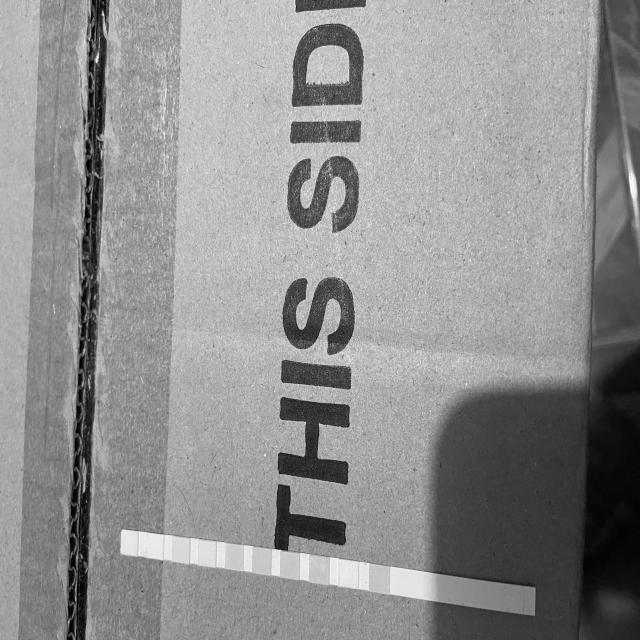Bilirubin: (339, 562, 359, 588)
Blood: (252, 549, 271, 573)
Glucose: (369, 567, 390, 593)
Ketone: (310, 557, 328, 582)
Leukocytes: (122, 531, 138, 555)
Nitrite: (148, 535, 164, 559)
Protein: (198, 542, 216, 566)
SpGravity: (281, 554, 299, 578)
Urobilinogen: (173, 538, 189, 562)
background: (0, 0, 640, 640)
pH: (226, 544, 243, 570)
strip: (120, 529, 536, 616)
